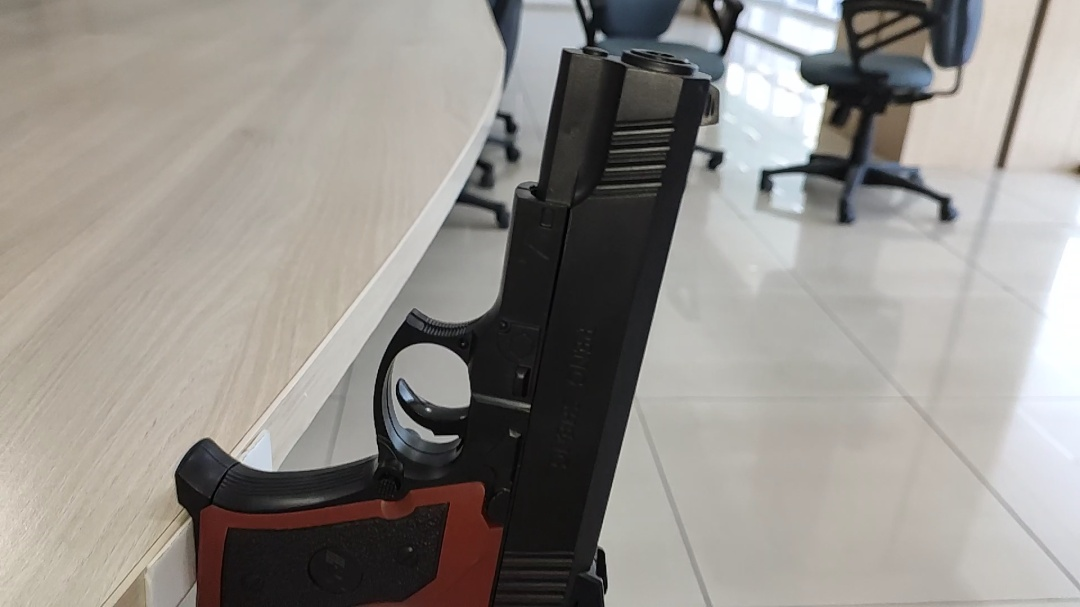gun: (592, 263, 643, 281)
